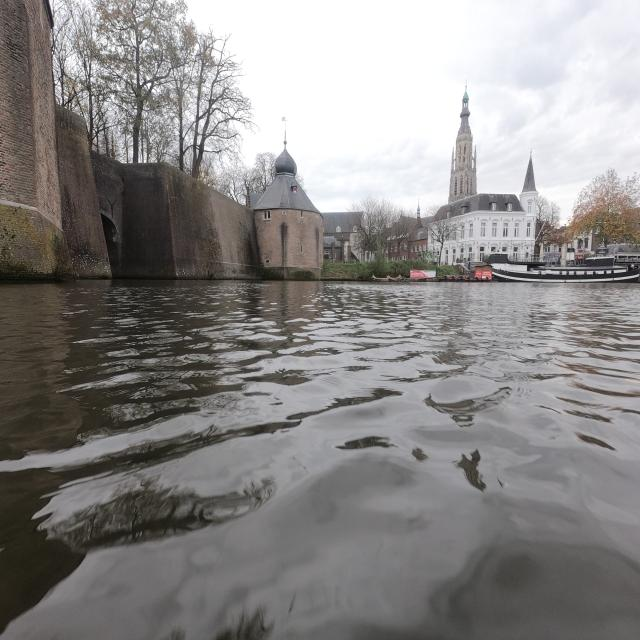boat: (493, 257, 640, 283)
grass: (321, 258, 462, 281)
sky: (182, 4, 638, 220)
tree: (569, 168, 640, 245)
water: (12, 290, 634, 634)
